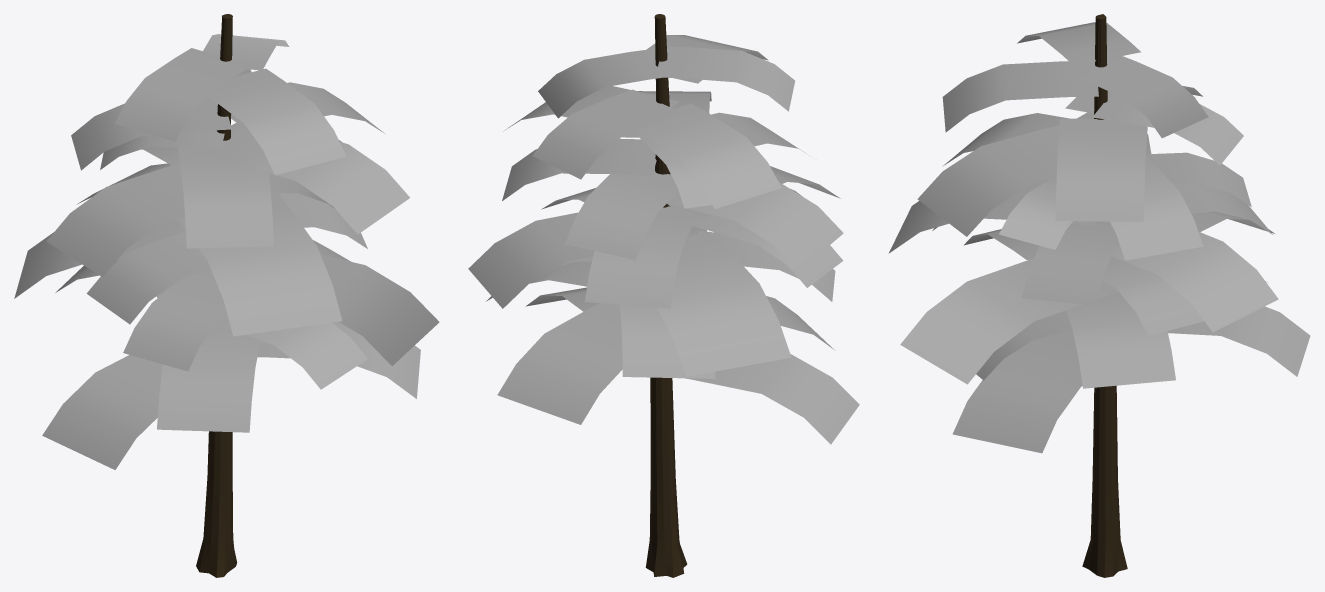
The model's file is Spruce LOD 0.fbx.
3 views of the same model, side by side, from view 1: azimuth 30°, elevation 25°; view 2: azimuth 150°, elevation 25°; view 3: azimuth 270°, elevation 25° (orthographic).
Parts seen in each view (by area): view 1: Spruce_LOD_0; view 2: Spruce_LOD_0; view 3: Spruce_LOD_0.
Part boxes in pixels (left/top/right/bottom): Spruce_LOD_0: left=14, top=14, right=439, bottom=577; Spruce_LOD_0: left=468, top=14, right=859, bottom=577; Spruce_LOD_0: left=888, top=14, right=1310, bottom=577.
Size of the model in its own units: 12.84 by 19.76 by 13.57.
